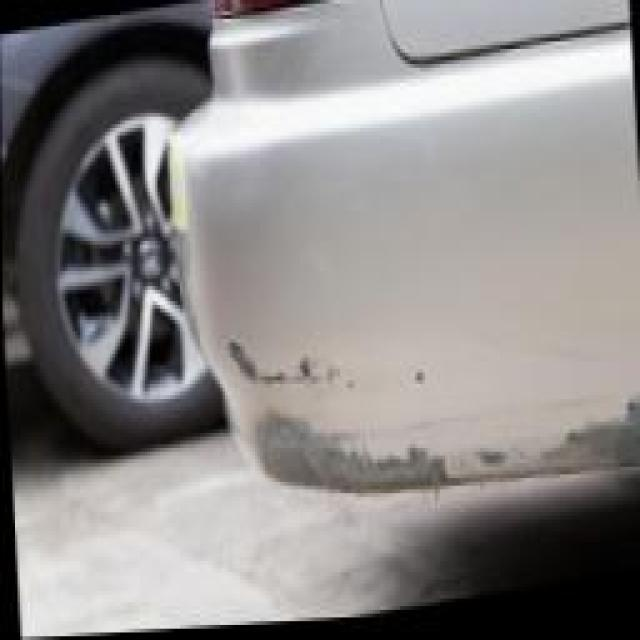Bumper: (218, 252, 640, 550)
